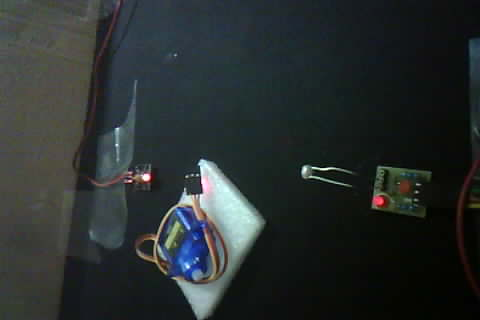motor: (133, 158, 253, 312)
